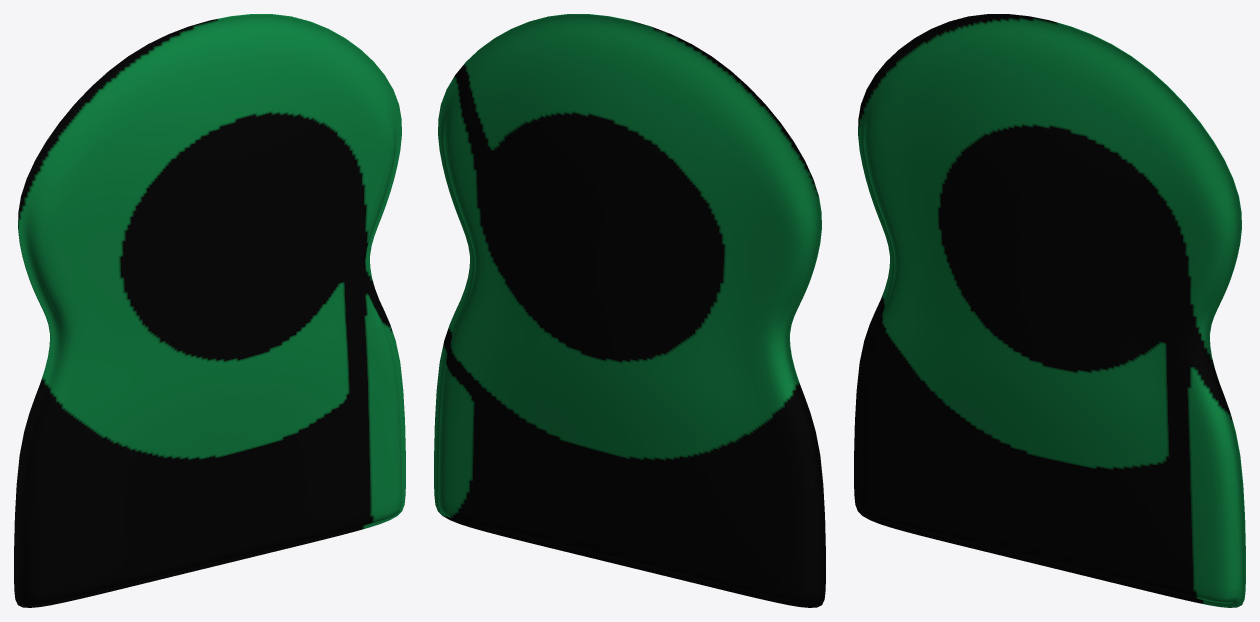
3 renders of one model, left to right at view 1: azimuth 30°, elevation 25°; view 2: azimuth 150°, elevation 25°; view 3: azimuth 330°, elevation 25°, orthographic.
Visible parts, largest first — view 1: 贴图; view 2: 贴图; view 3: 贴图.
Boxes of the visible parts, <box> form: 贴图: <box>14,14,405,607</box>; 贴图: <box>434,14,825,607</box>; 贴图: <box>854,14,1245,607</box>.
Size of the model in its own units: 146 by 194 by 22.47.
1 material, 1 textured.
